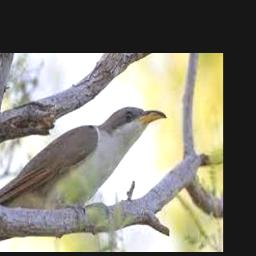Cuckoo: (0, 106, 166, 210)
